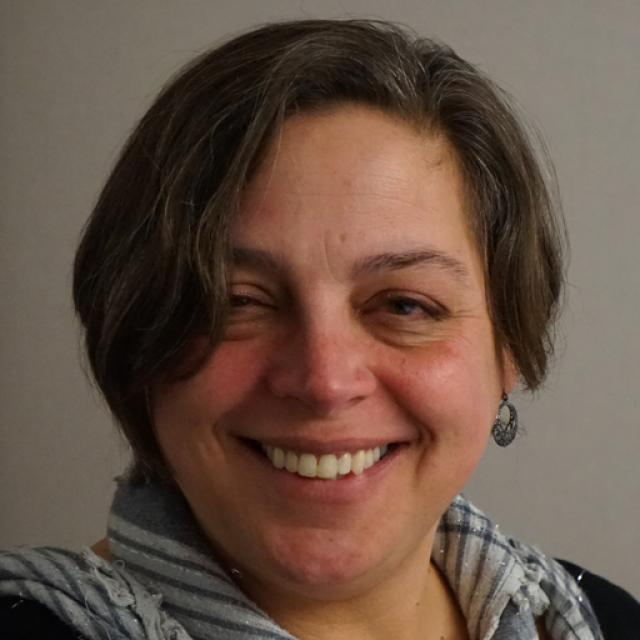happy: (150, 117, 504, 588)
